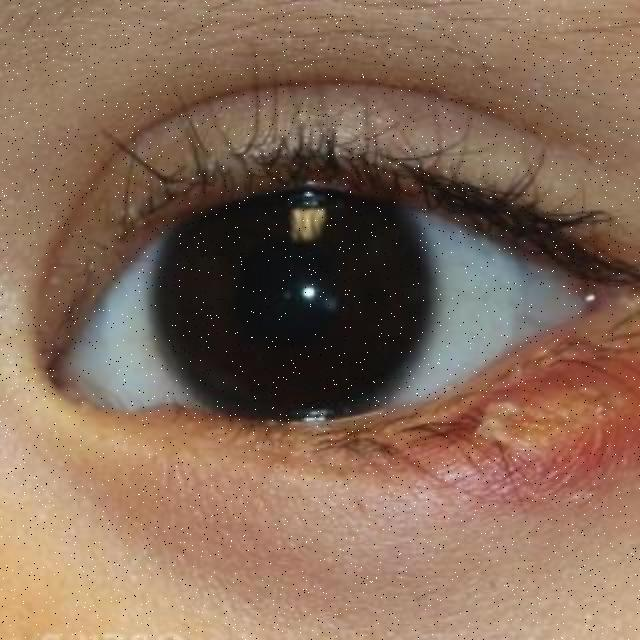Stye: (437, 350, 640, 535)
